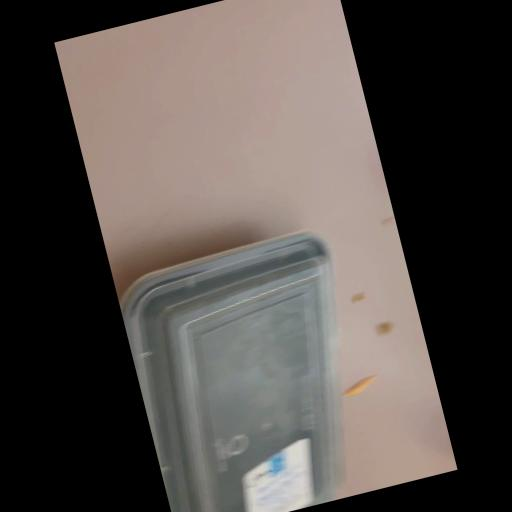rigid_plastic_container: (110, 219, 391, 512)
